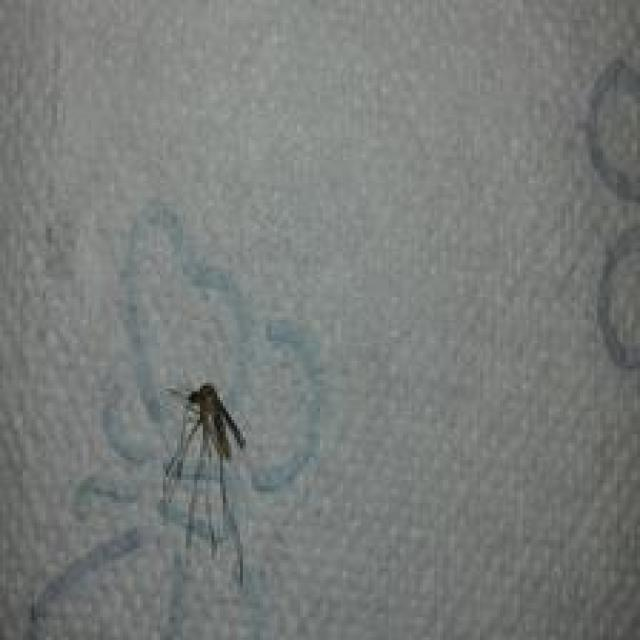Culex: (159, 379, 250, 587)
